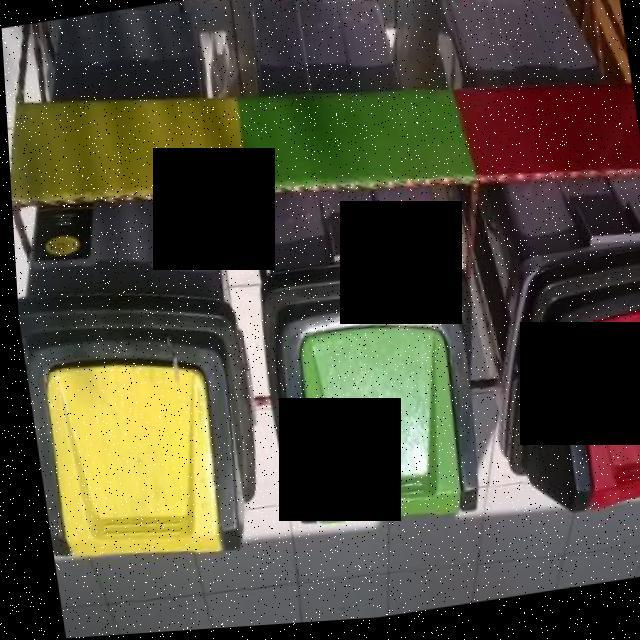bin: (205, 0, 496, 552), (0, 0, 272, 589), (423, 0, 640, 553)
